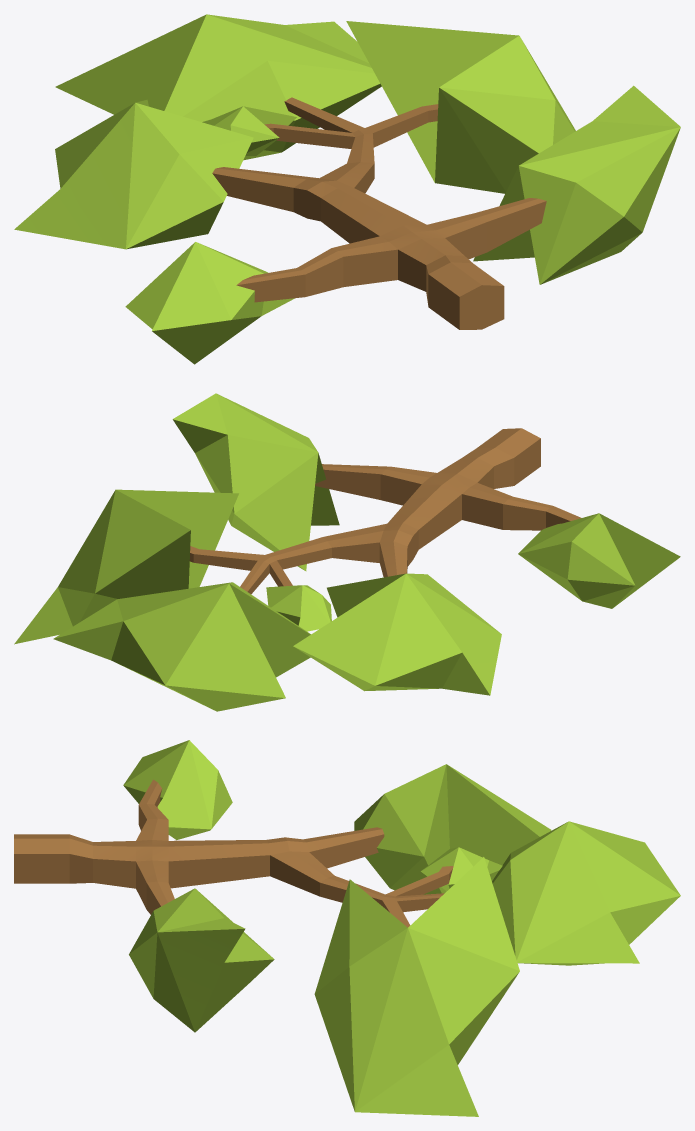
The model's file is tree4.dae.
The picture shows the model from 3 angles, top to bottom: view 1: azimuth 30°, elevation 25°; view 2: azimuth 150°, elevation 25°; view 3: azimuth 270°, elevation 25°; orthographic projection. The views are drawn at different scales.
Parts seen in each view (by area): view 1: Green, Brown; view 2: Green, Brown; view 3: Green, Brown.
Part boxes in pixels (x1=…): Green: x1=14, y1=14, x2=680, y2=364; Brown: x1=212, y1=97, x2=546, y2=329; Green: x1=14, y1=393, x2=680, y2=711; Brown: x1=189, y1=428, x2=581, y2=594; Green: x1=123, y1=740, x2=680, y2=1116; Brown: x1=14, y1=779, x2=453, y2=927.
Size of the model in its own units: 1.32 by 1.43 by 0.398.
